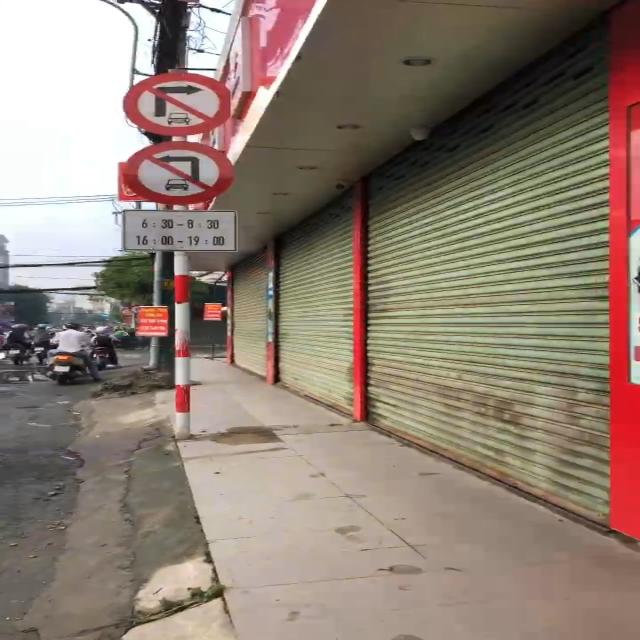Bien bao cam xe o to re phai: (119, 65, 243, 134)
Bien bao cam xe o to re trai: (123, 136, 245, 201)
